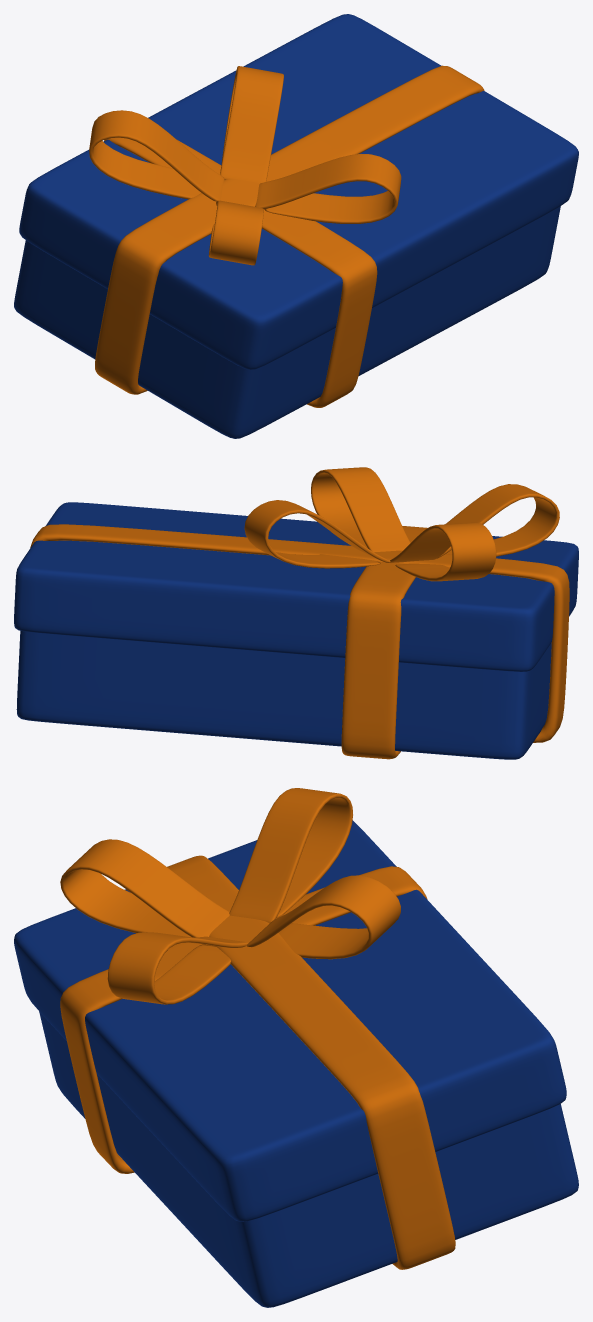
The model's file is gift box 4.obj.
3 views of the same model, one above another, from view 1: azimuth 30°, elevation 25°; view 2: azimuth 150°, elevation 25°; view 3: azimuth 270°, elevation 25° (orthographic). The views are drawn at different scales.
Visible parts, largest first — view 1: Plane.041_Plane.004; view 2: Plane.041_Plane.004; view 3: Plane.041_Plane.004.
Part boxes in pixels (x1,y1,x2,y2): Plane.041_Plane.004: (14,14,578,438); Plane.041_Plane.004: (14,467,578,759); Plane.041_Plane.004: (14,788,578,1307).
Size of the model in its own units: 2.65 by 1.26 by 2.16.
